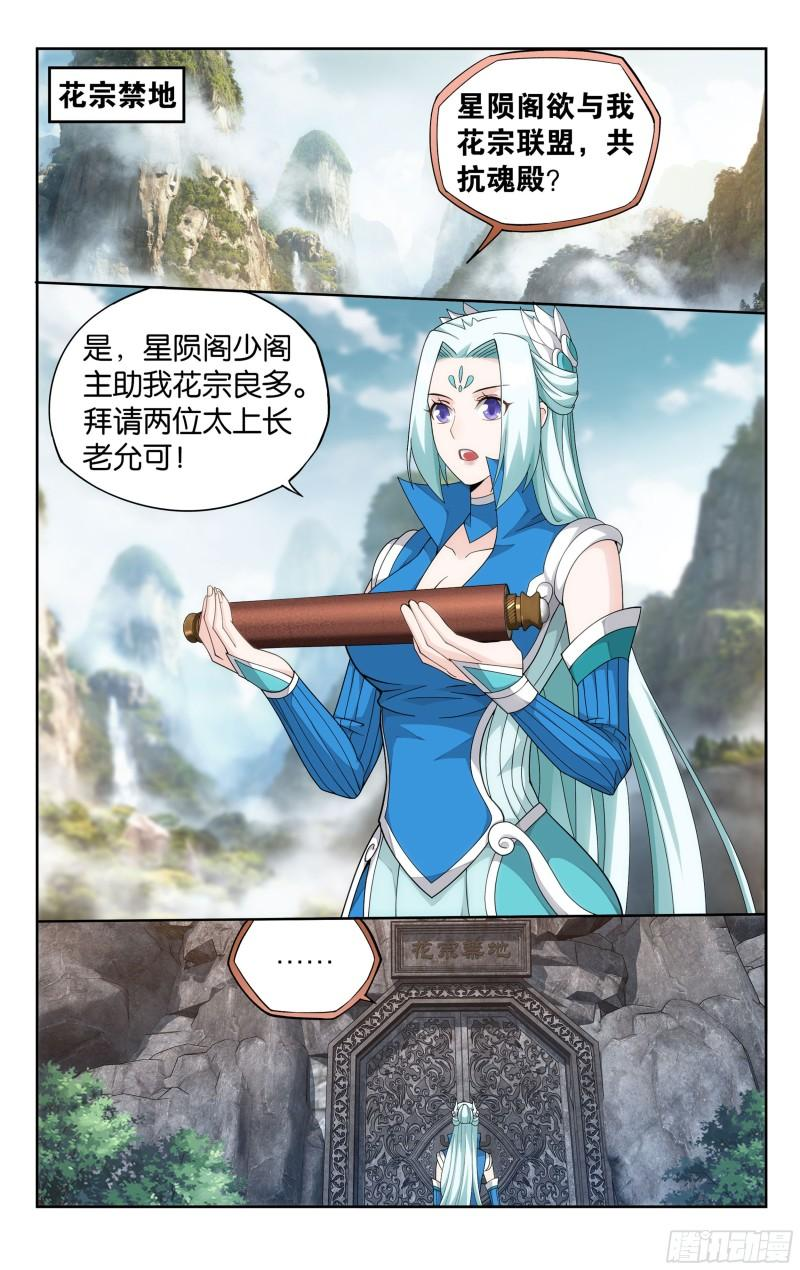boxCube: (48, 65, 183, 122)
boxEllipse: (51, 287, 333, 511), (429, 50, 663, 260), (228, 916, 381, 1018)
minBox: (33, 278, 765, 919), (33, 913, 765, 1207), (33, 44, 763, 313)
